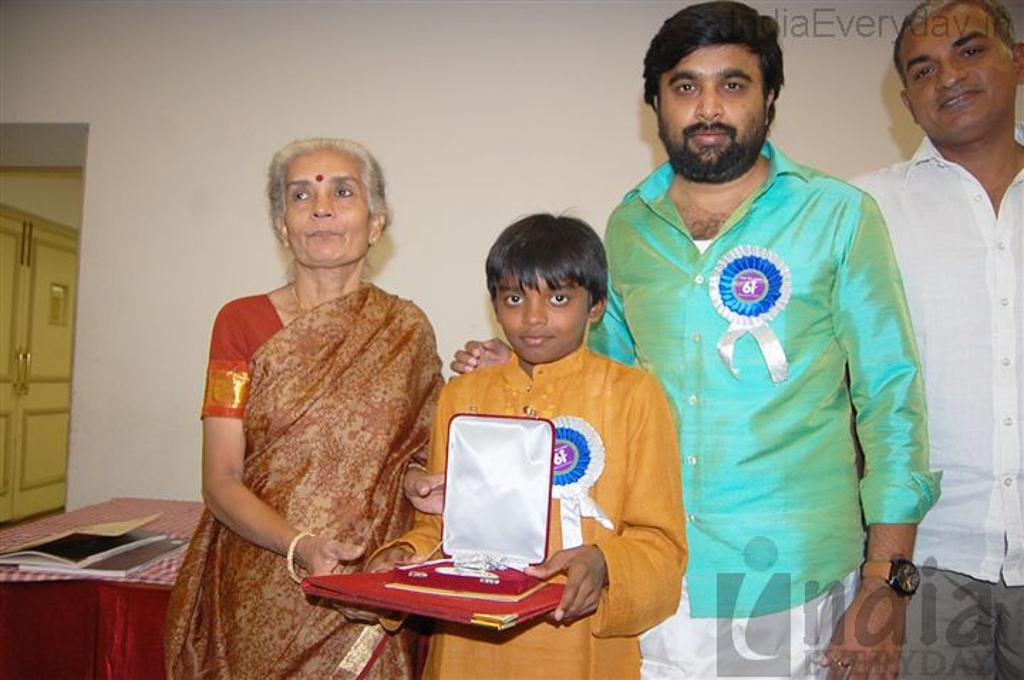face: (658, 22, 764, 182), (900, 8, 1018, 144), (492, 256, 590, 362), (282, 146, 370, 262)
